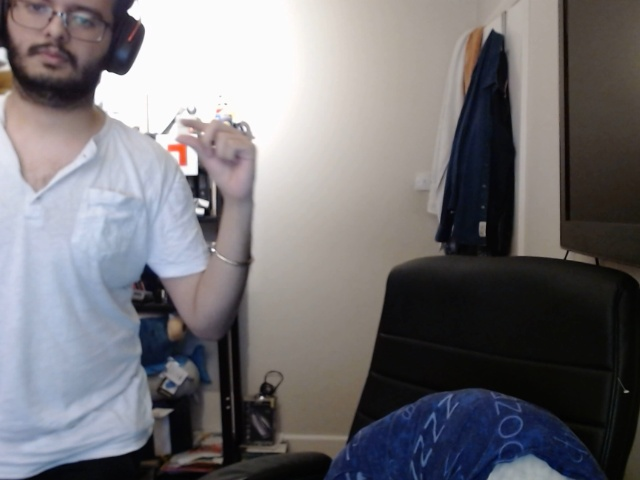Small: (175, 109, 262, 217)
